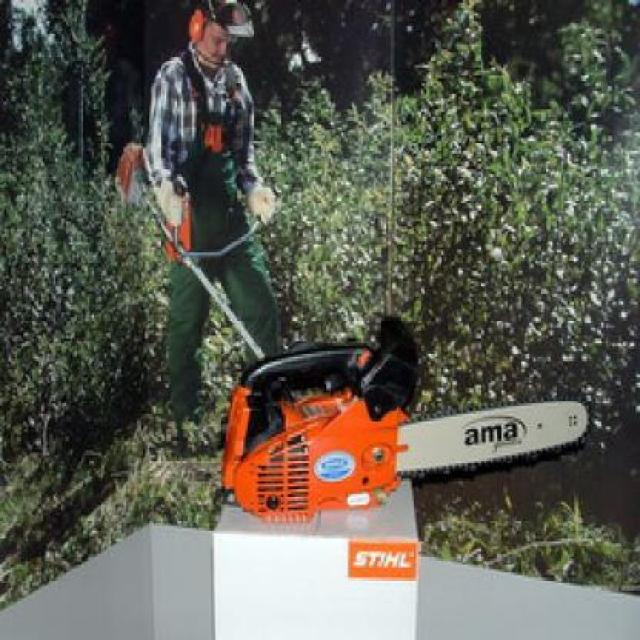Chainsaw: (215, 320, 594, 523)
